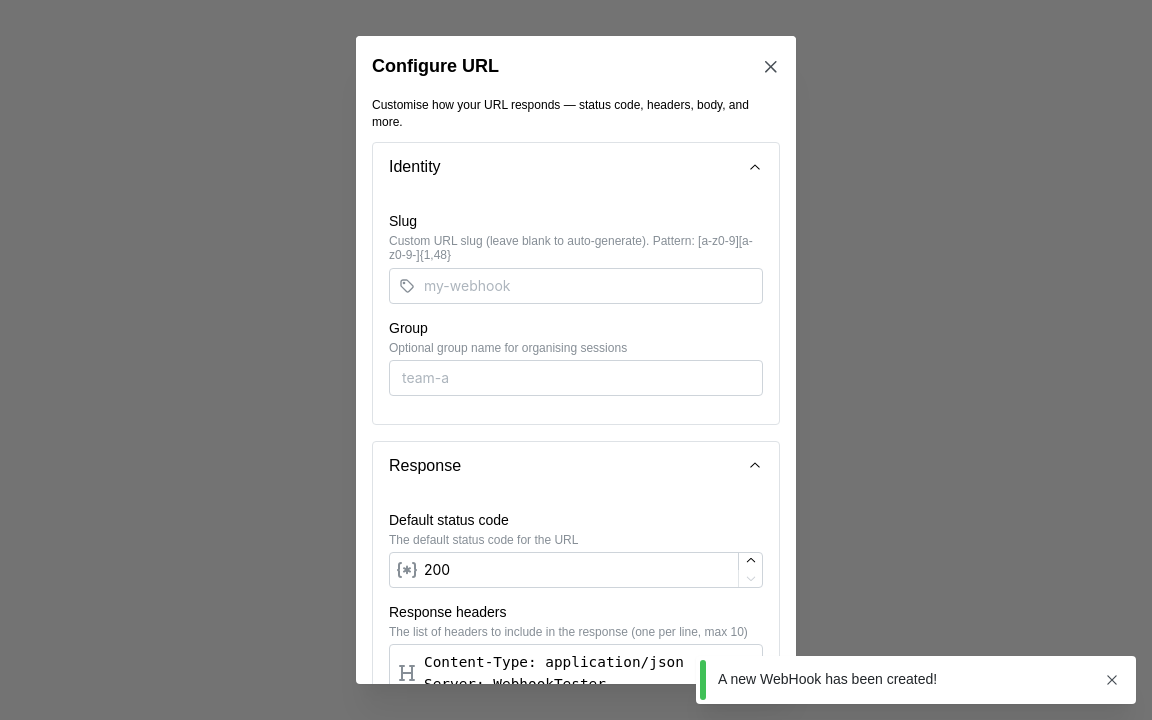
Test: NewSessionModal — new fields › rejects invalid slug "BadSlug!" — Create button disabled
Step 1. Type "BadSlug!" into the field labelled "Slug" → (576, 286), box [389,268,763,304]
(page scrolled)
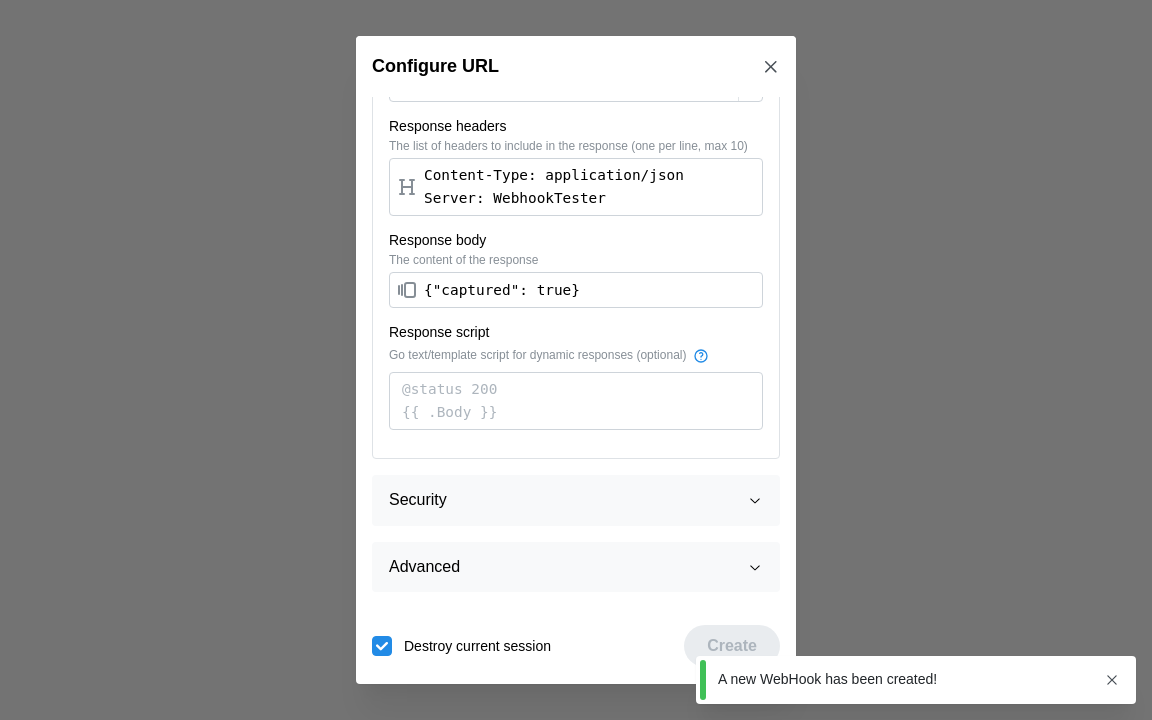
Result: the button "Create" is disabled at [684,626,780,668]
